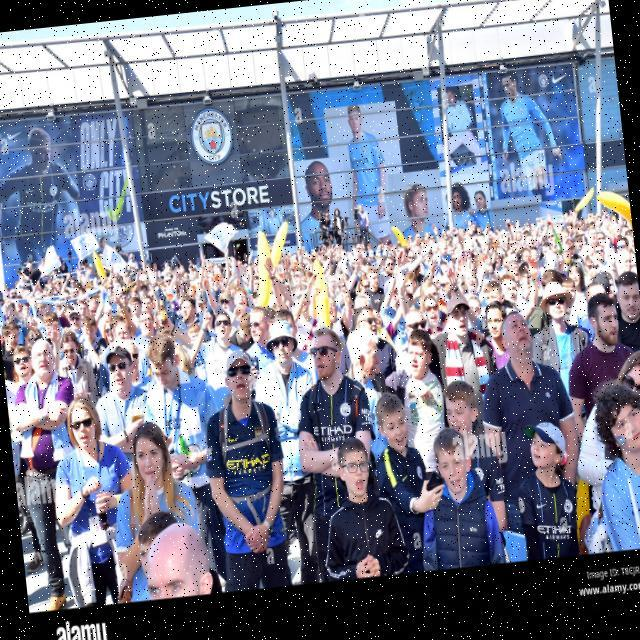Etihad Airways: (226, 452, 270, 476), (537, 520, 576, 543), (313, 422, 353, 444)
Nike: (629, 502, 640, 516), (226, 434, 241, 443), (374, 528, 384, 539), (399, 473, 410, 483), (313, 405, 326, 413), (536, 502, 547, 509)
